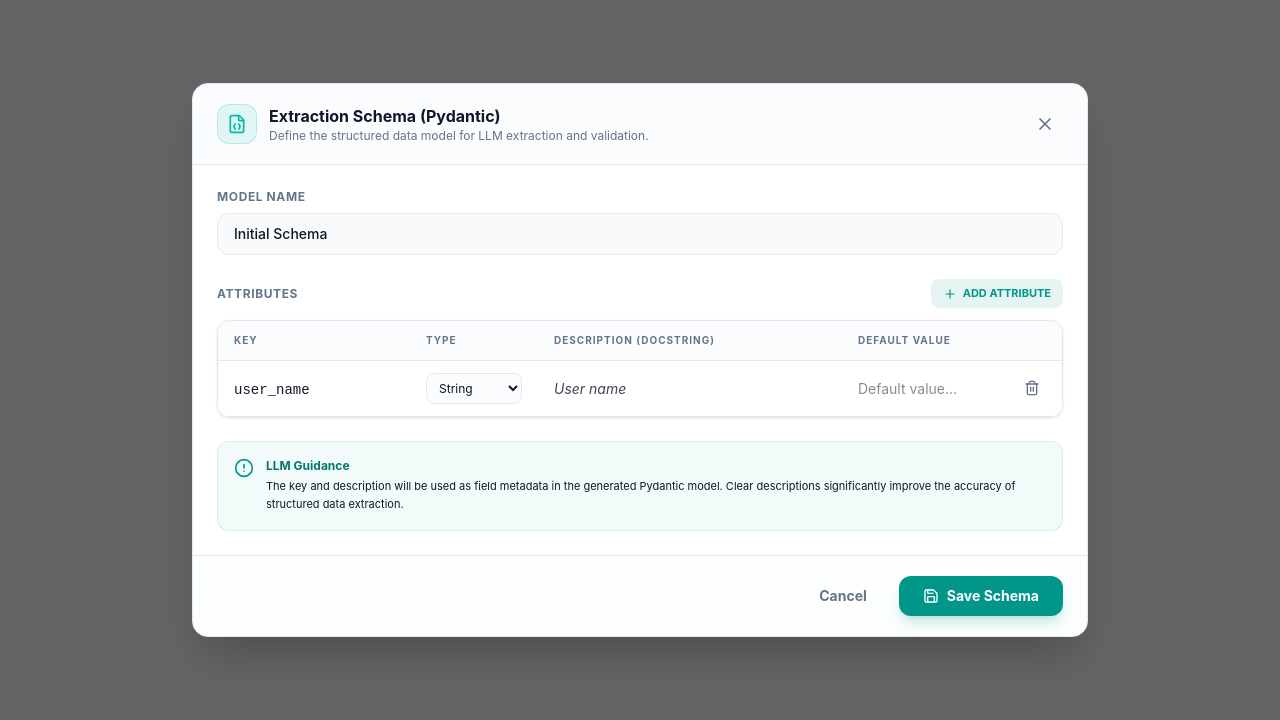
Test: SchemaNodeModal › adds a new field
The image size is (1280, 720).
Click the button "Add Attribute": (997, 294) [931, 279, 1063, 308]
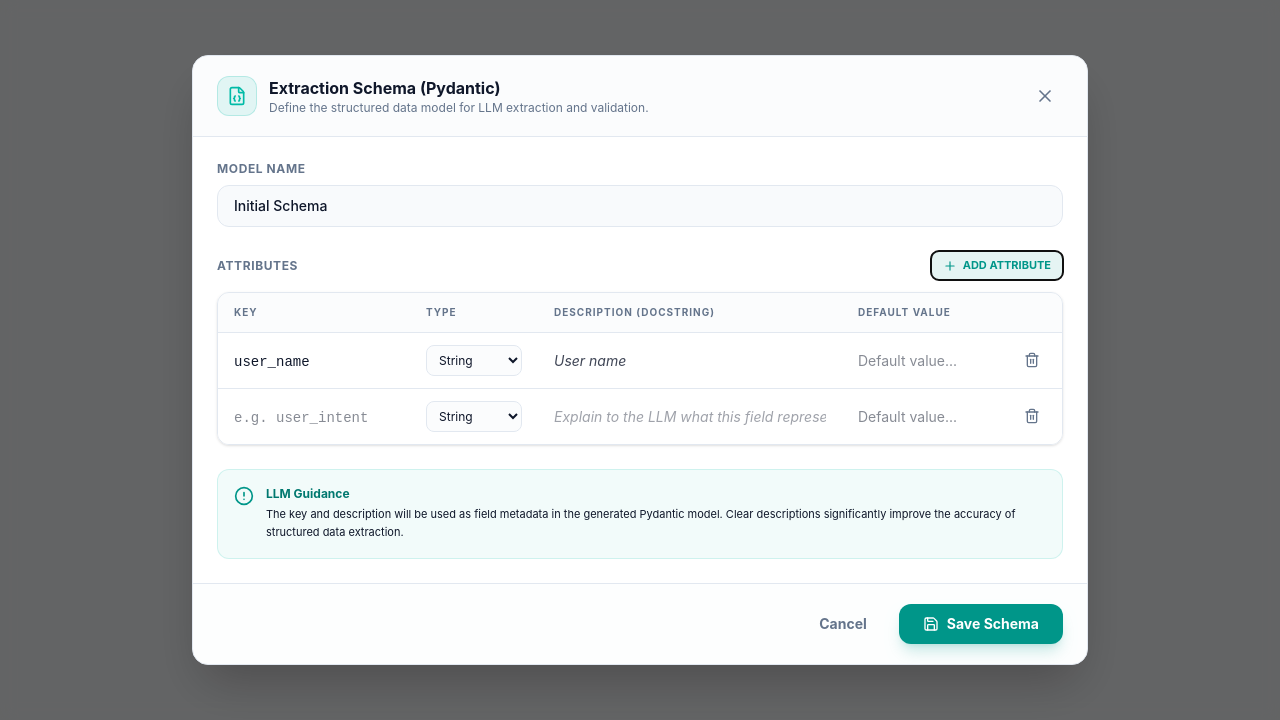
Result: the number of fields with placeholder "e.g. user_intent" is 2 at [234, 352, 394, 372]; [234, 408, 394, 428]
